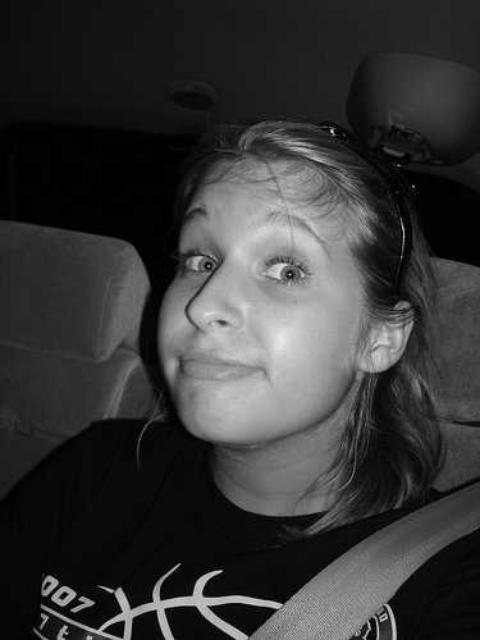SafeDriving: (250, 230, 317, 292), (168, 230, 224, 280)
Seatbelt: (244, 474, 480, 640)
